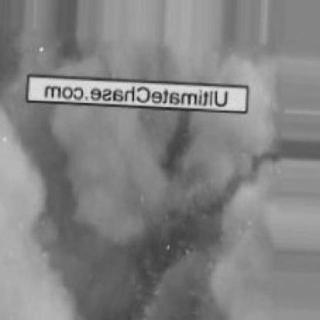Smoke: (18, 103, 298, 305)
